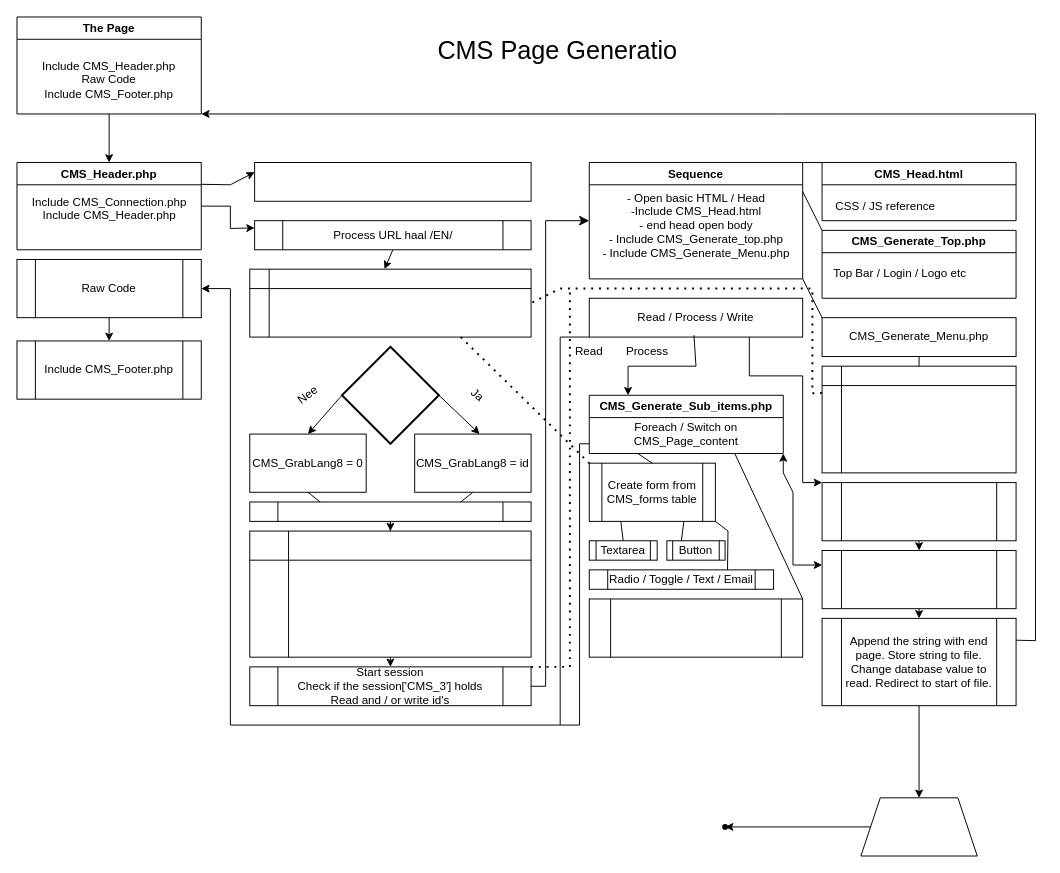
Image size: 1060x873. Some labels were removed from this diagram. Here are the shapes that lost their labels. From the top down, the centre of each, then its label:
the point at 392,181: Connectie maken met MySQL & MongoDB
the point at 390,302: CMS_Lang id lang_key
the point at 389,394: Gevonden
the point at 918,419: CMS_Pages Id Page_name Page_ext Lang_id Rights_Id Sort
the point at 390,511: Process URL & extentie
the point at 918,511: Store Data In session Redirect to a write page to unlock current page
the point at 390,593: CMS_Pages id, page_name page_ext lang_id read_id read_write_id
the point at 918,579: Create string load start page into it. Start buffer and append it to string.
the point at 695,627: Raw text or code
